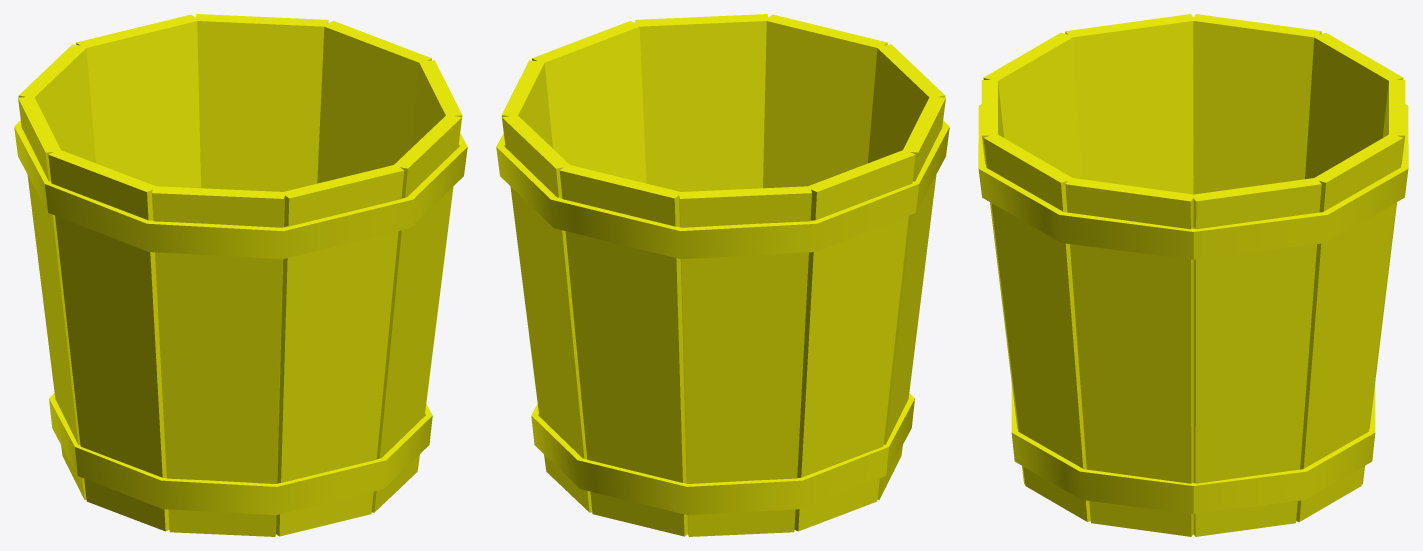
The picture shows the model from 3 angles, left to right: view 1: azimuth 30°, elevation 25°; view 2: azimuth 150°, elevation 25°; view 3: azimuth 270°, elevation 25°; orthographic projection.
Parts seen in each view (by area): view 1: Crate-05; view 2: Crate-05; view 3: Crate-05.
Part boxes in pixels (left/top/right/bottom): Crate-05: left=14, top=14, right=467, bottom=536; Crate-05: left=496, top=14, right=949, bottom=536; Crate-05: left=978, top=14, right=1408, bottom=536.
Size of the model in its own units: 0.2237 by 0.195 by 0.2145.
1 material, 1 textured.
